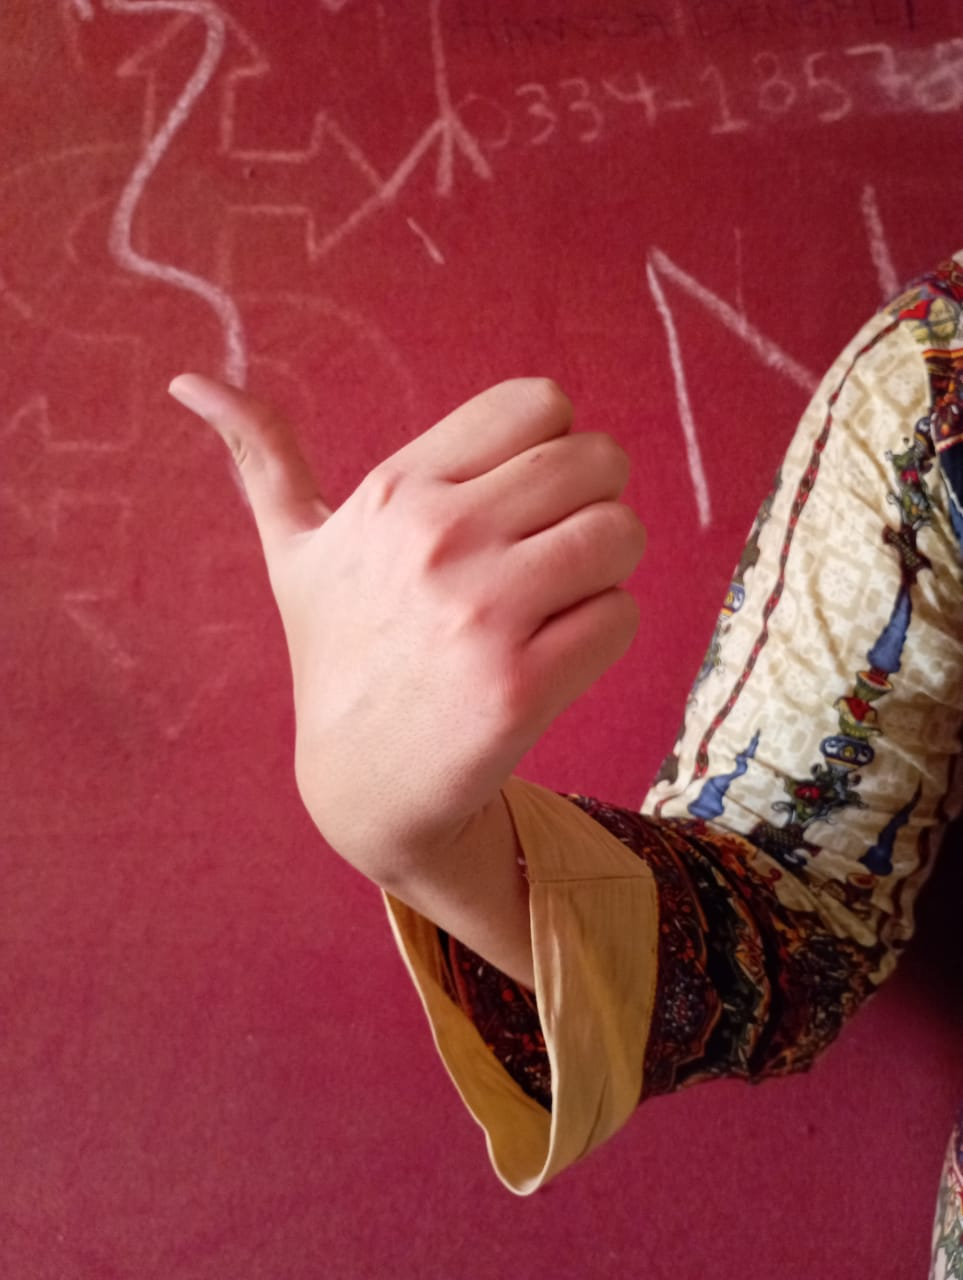I Like It: (150, 357, 648, 817)
